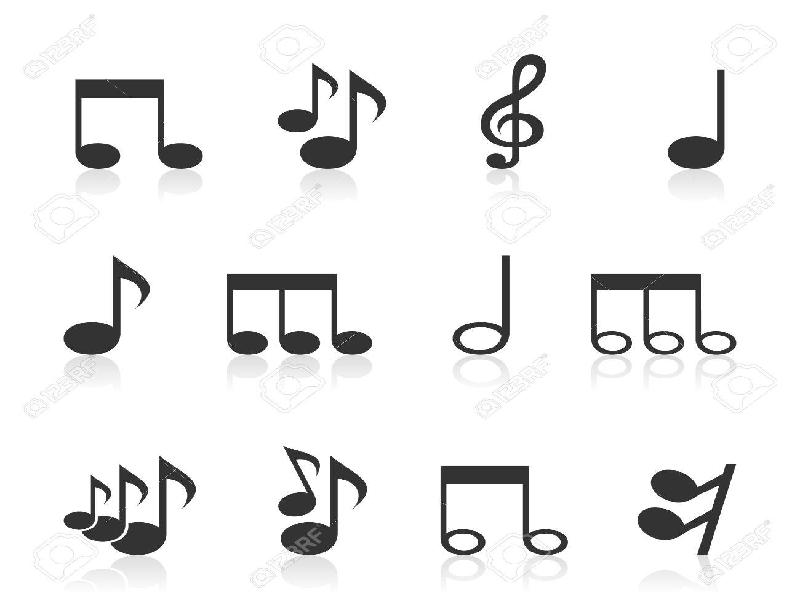B: (453, 253, 517, 351), (506, 485, 572, 557), (424, 486, 488, 554), (691, 292, 740, 354), (586, 292, 632, 356), (638, 291, 684, 355)
C: (55, 254, 153, 354), (132, 70, 209, 175), (320, 270, 382, 358), (267, 270, 322, 362), (69, 77, 124, 168), (221, 271, 271, 358)
CS: (479, 53, 547, 168)
N: (666, 69, 731, 172)
